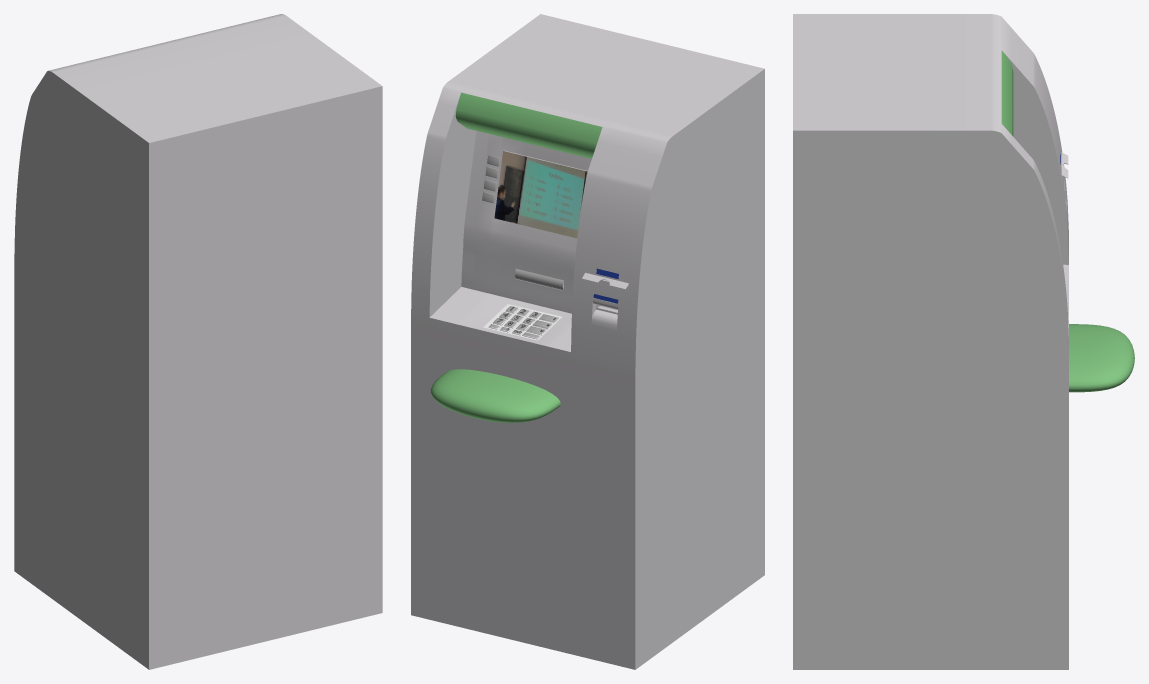
File: cashMachine.fbx
3 renders of one model, left to right at view 1: azimuth 30°, elevation 25°; view 2: azimuth 150°, elevation 25°; view 3: azimuth 270°, elevation 25°, orthographic. The views are drawn at different scales.
Parts seen in each view (by area): view 1: cash_machine; view 2: cash_machine, shelf, top_detail, curtain; view 3: cash_machine, shelf, top_detail.
Boxes of the visible parts, x1,y1,x2,y2 form: cash_machine: [14, 14, 382, 669]; cash_machine: [411, 14, 764, 669]; shelf: [430, 369, 560, 422]; top_detail: [455, 92, 602, 158]; curtain: [515, 269, 563, 290]; cash_machine: [793, 14, 1068, 669]; shelf: [1069, 324, 1134, 392]; top_detail: [1001, 50, 1013, 136].
Bounding box in the file's own units: 200 × 431 × 248.
Materials: 9 (4 with a texture image).
